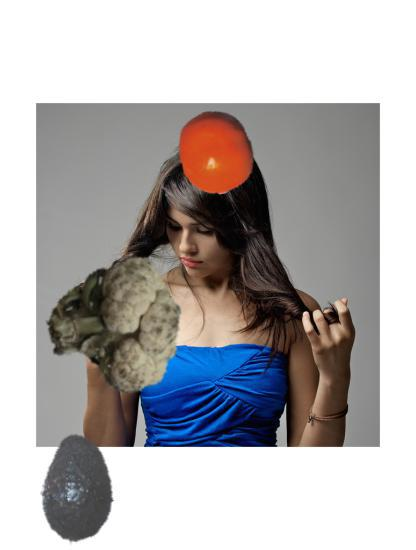Avocado: (22, 433, 135, 546)
Cauliflower: (47, 261, 185, 399)
Clementine: (174, 110, 259, 195)
